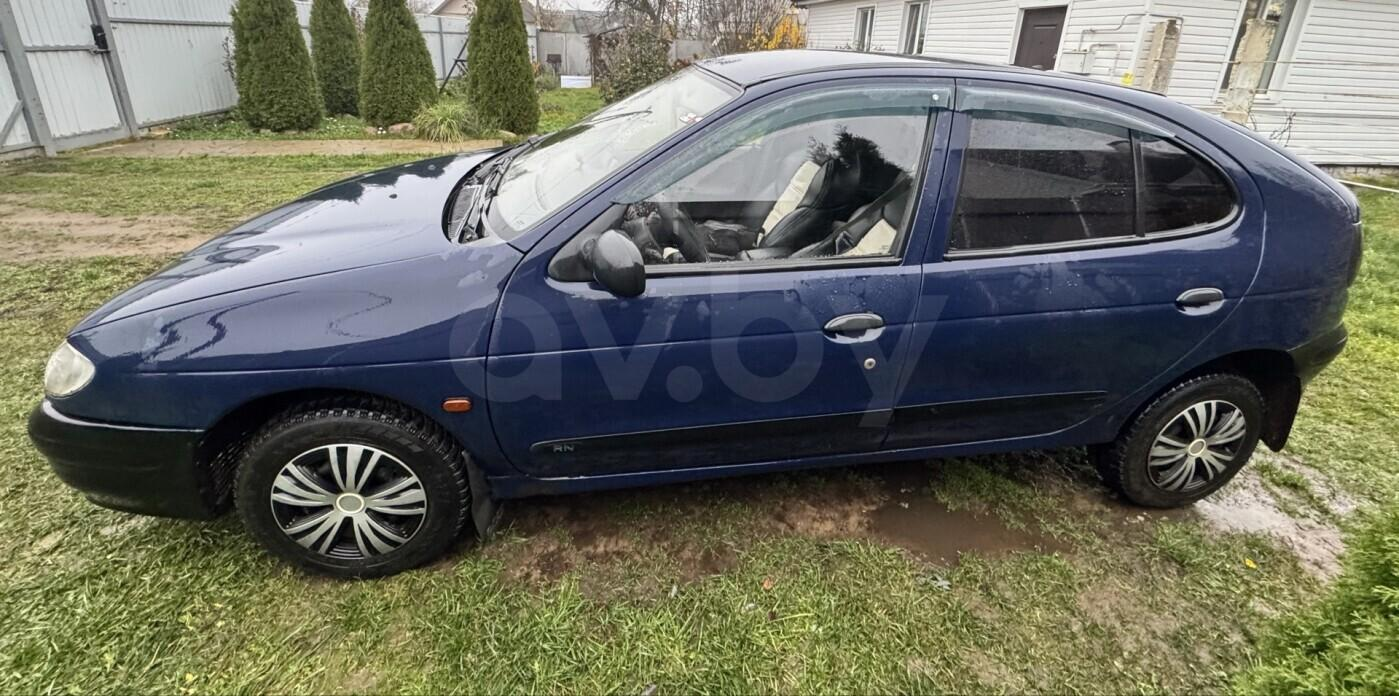Megane_1995-1999: (30, 45, 1366, 576)
